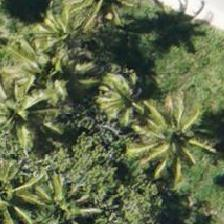coconut_tree: (134, 90, 223, 180), (0, 61, 60, 151)
